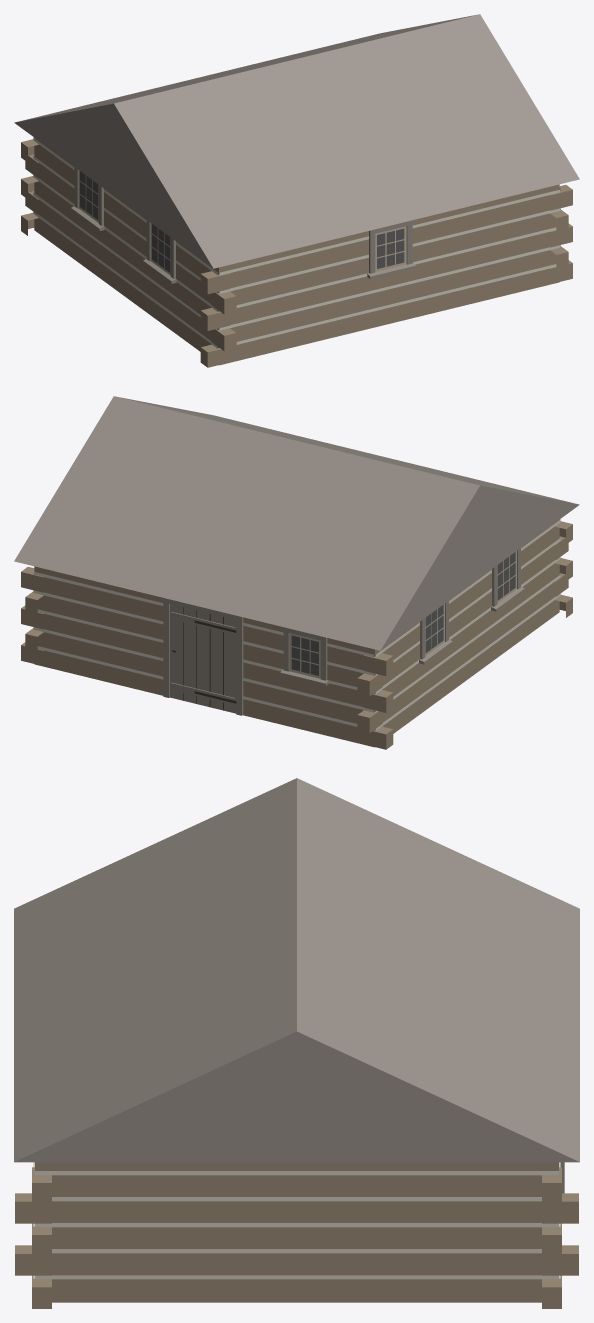
The model's file is kinzie_stable_1812__kinzie_1804.glb.
3 renders of one model, top to bottom at view 1: azimuth 30°, elevation 25°; view 2: azimuth 150°, elevation 25°; view 3: azimuth 270°, elevation 25°, orthographic. The views are drawn at different scales.
Visible parts, largest first — view 1: kinzie_stable_1812__kinzie_1804; view 2: kinzie_stable_1812__kinzie_1804; view 3: kinzie_stable_1812__kinzie_1804.
Part boxes in pixels (x1,y1,x2,y2): kinzie_stable_1812__kinzie_1804: (14, 14, 579, 367); kinzie_stable_1812__kinzie_1804: (14, 396, 579, 749); kinzie_stable_1812__kinzie_1804: (14, 778, 579, 1308).
Bounding box in the file's own units: 7.1 × 3.66 × 6.7.
